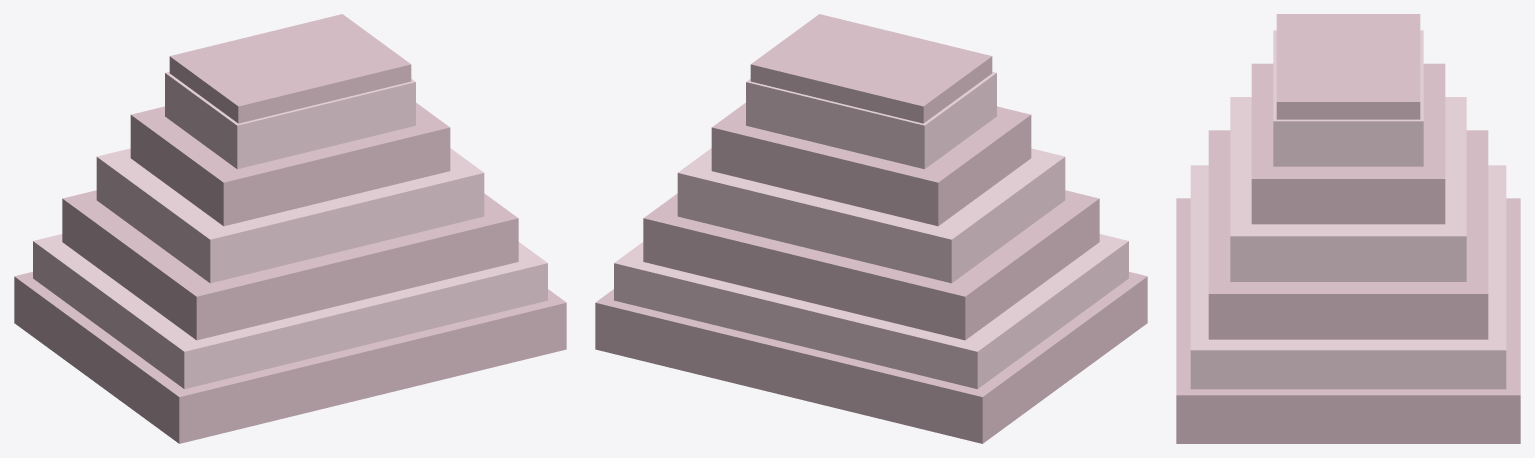
File: bailarina_saia.glb
3 renders of one model, left to right at view 1: azimuth 30°, elevation 25°; view 2: azimuth 150°, elevation 25°; view 3: azimuth 270°, elevation 25°, orthographic. The views are drawn at different scales.
Visible parts, largest first — view 1: bailarina_saia; view 2: bailarina_saia; view 3: bailarina_saia.
Boxes of the visible parts, <box> form: bailarina_saia: <box>14,14,566,443</box>; bailarina_saia: <box>595,14,1147,443</box>; bailarina_saia: <box>1176,14,1520,443</box>.
Bounding box in the file's own units: 1.3 × 0.885 × 0.96.
